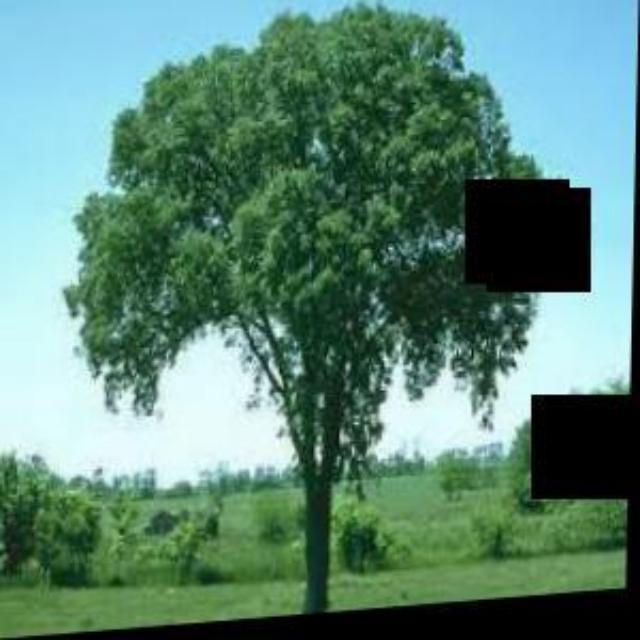tree: (58, 1, 590, 634)
